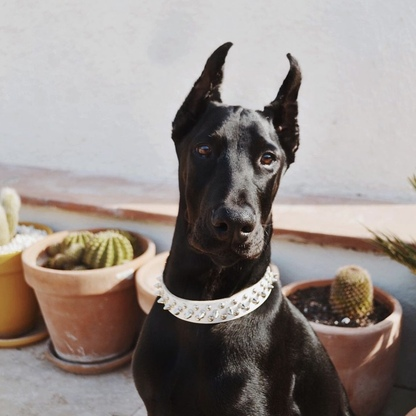doberman: (129, 37, 358, 414)
